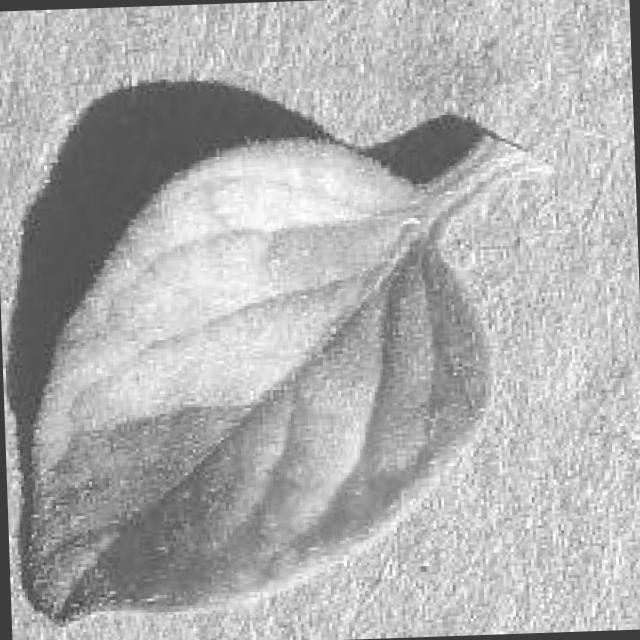leaf mold: (27, 136, 556, 633)
